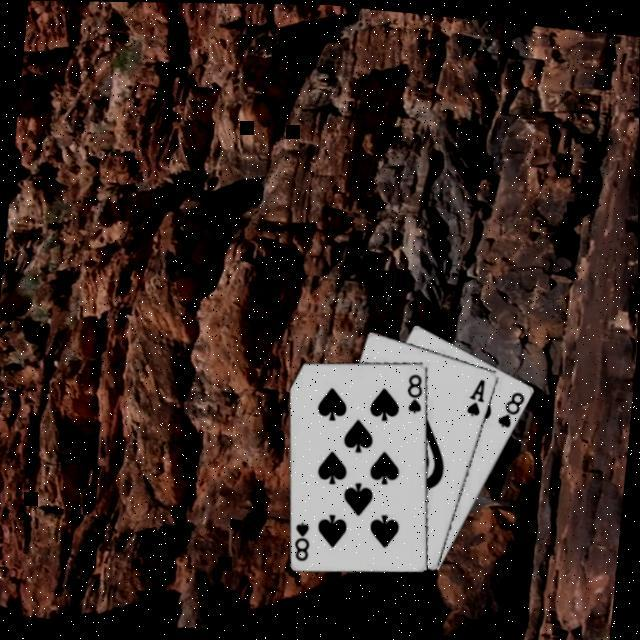8S: (493, 384, 527, 428), (401, 367, 426, 413), (289, 516, 313, 562)
AS: (462, 371, 488, 417)
